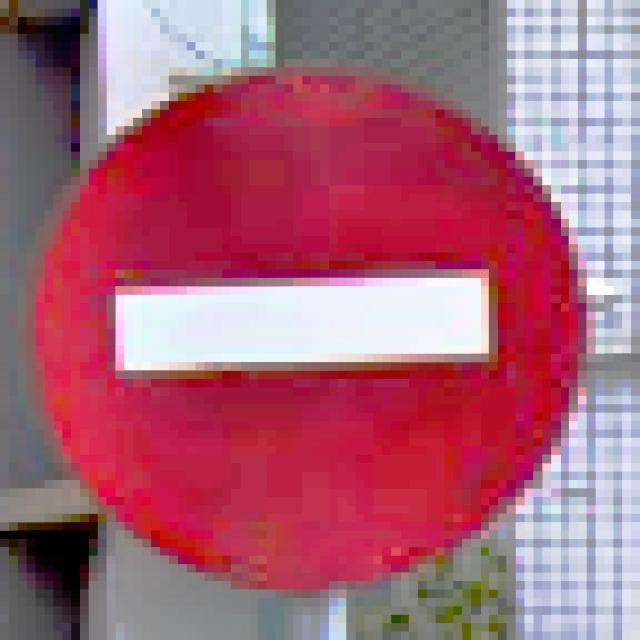noentry: (18, 60, 586, 590)
